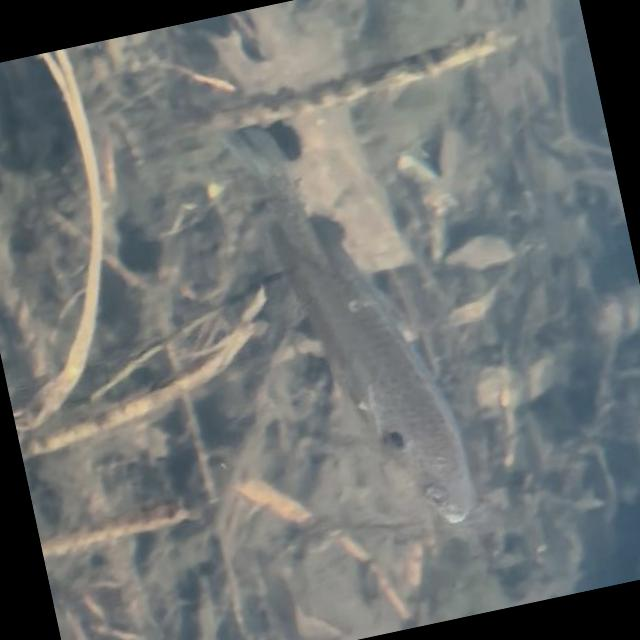Gunes Levregi: (204, 87, 491, 561)
